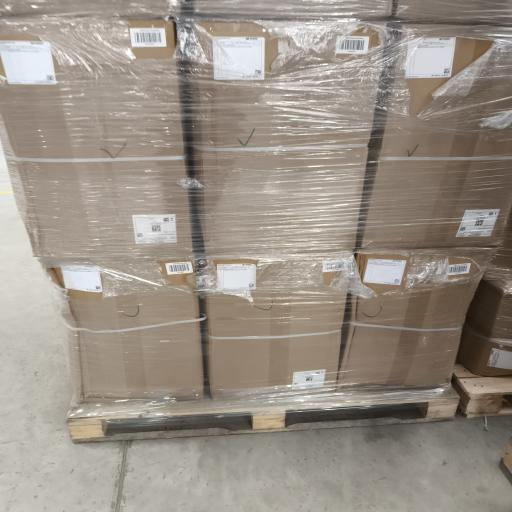pallet: (67, 388, 458, 442), (453, 365, 511, 417), (503, 437, 511, 477)
